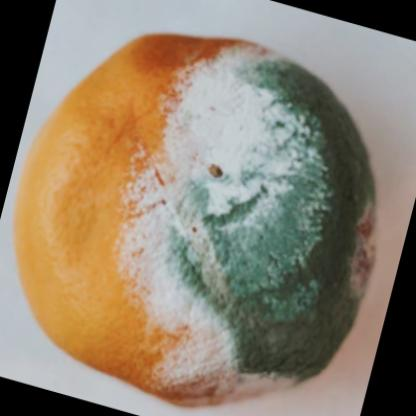rotten: (16, 34, 379, 407)
